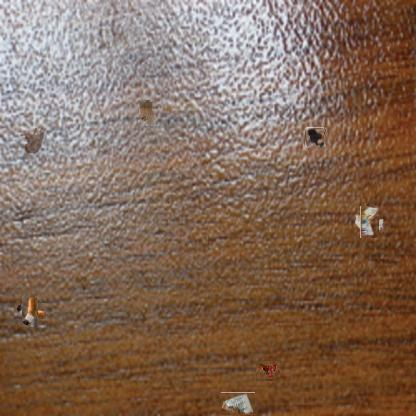dirty: (221, 392, 255, 415), (357, 210, 382, 235), (18, 300, 42, 324), (256, 361, 280, 381), (139, 100, 156, 126)
liquid: (19, 126, 45, 154), (306, 128, 325, 148)
